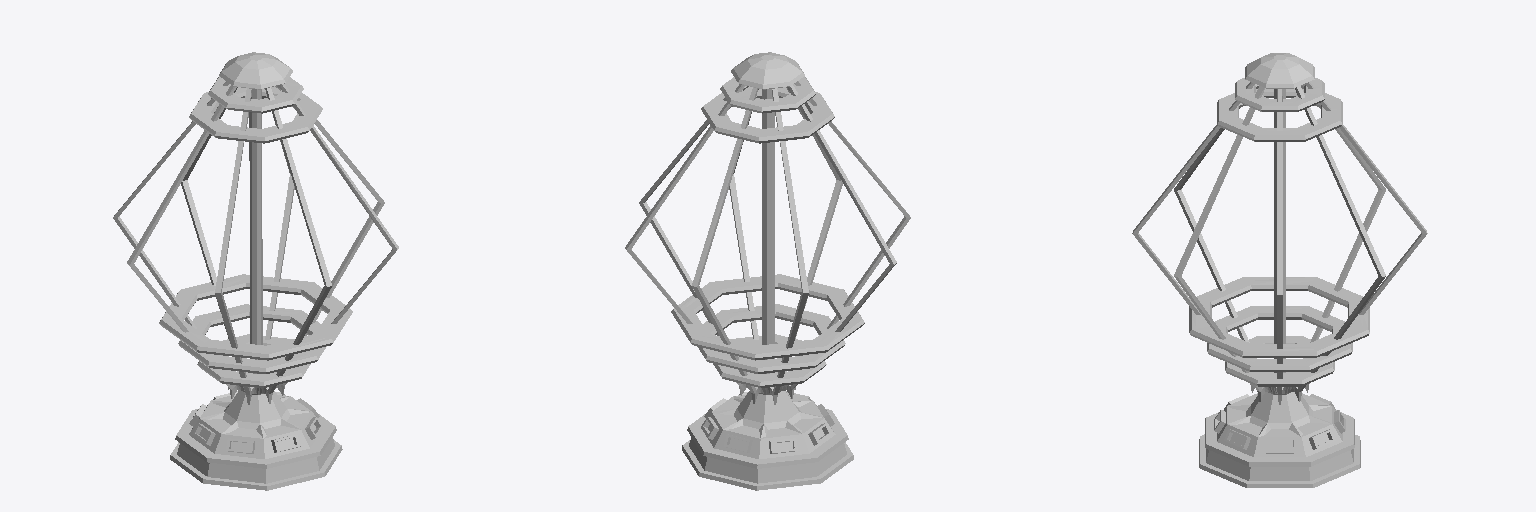
The model's file is Condensator.obj.
3 views of the same model, side by side, from view 1: azimuth 30°, elevation 25°; view 2: azimuth 150°, elevation 25°; view 3: azimuth 270°, elevation 25° (orthographic).
Parts seen in each view (by area): view 1: Condensator_Cylinder; view 2: Condensator_Cylinder; view 3: Condensator_Cylinder.
Boxes of the visible parts, <box> form: Condensator_Cylinder: <box>113,52,398,490</box>; Condensator_Cylinder: <box>625,52,910,490</box>; Condensator_Cylinder: <box>1132,53,1427,487</box>.
Size of the model in its own units: 3.66 by 5.43 by 3.66.